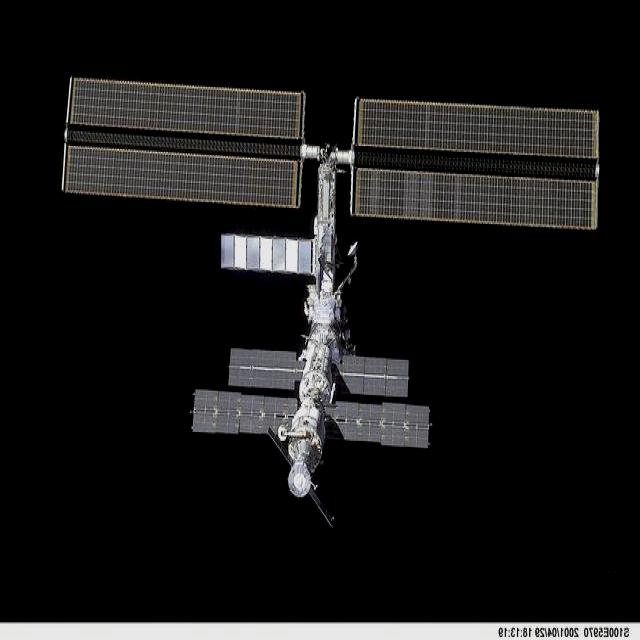satellite: (62, 77, 599, 519)
